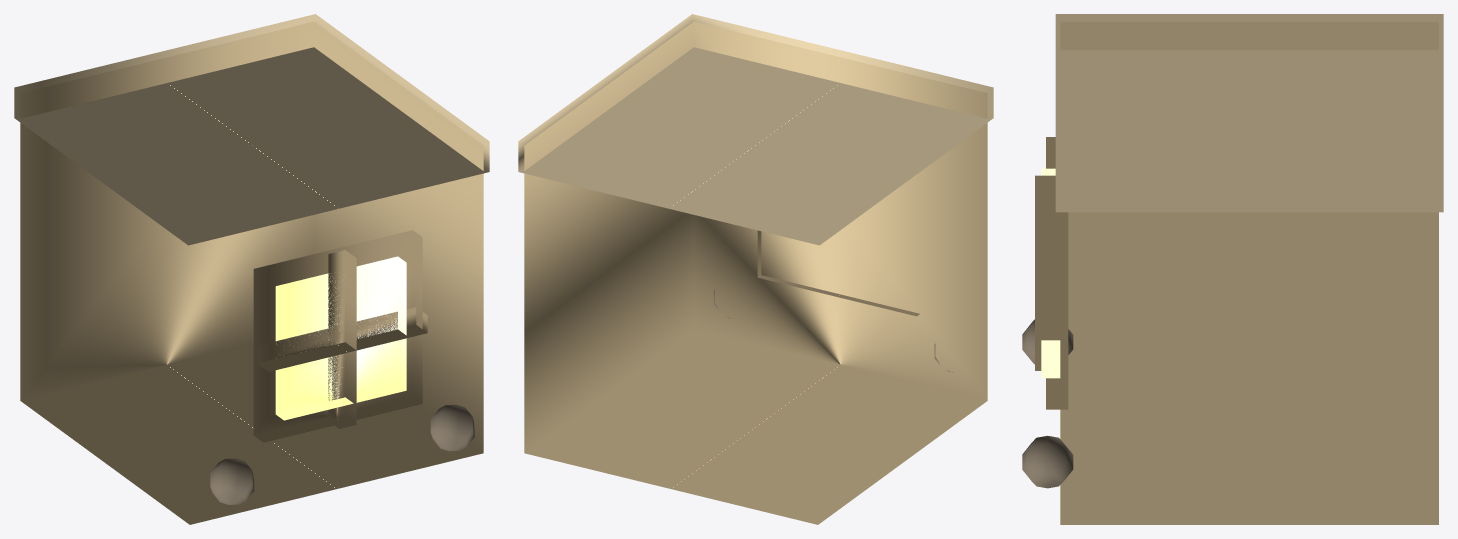
The model's file is block_window.glb.
3 views of the same model, side by side, from view 1: azimuth 30°, elevation 25°; view 2: azimuth 150°, elevation 25°; view 3: azimuth 270°, elevation 25° (orthographic). The views are drawn at different scales.
Bounding box in the file's own units: 24.6 × 24.4 × 26.72.
